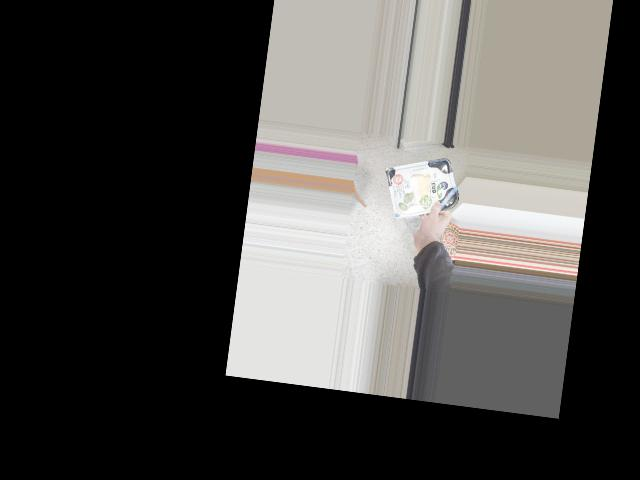cheese: (389, 160, 456, 215)
